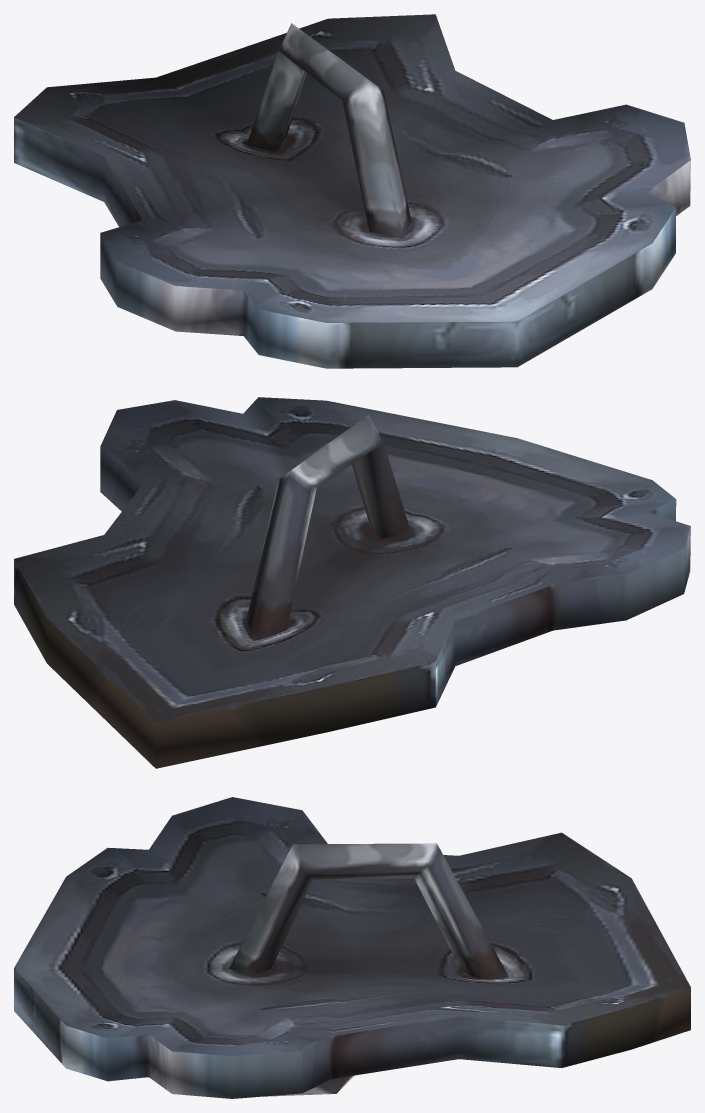
Rendered from weapon21004.FBX.
3 views of the same model, one above another, from view 1: azimuth 30°, elevation 25°; view 2: azimuth 150°, elevation 25°; view 3: azimuth 270°, elevation 25° (orthographic). The views are drawn at different scales.
Visible parts, largest first — view 1: Wep_Dun_4; view 2: Wep_Dun_4; view 3: Wep_Dun_4.
Boxes of the visible parts, x1,y1,x2,y2 form: Wep_Dun_4: [14, 14, 690, 368]; Wep_Dun_4: [14, 397, 690, 768]; Wep_Dun_4: [14, 797, 690, 1098].
Size of the model in its own units: 30.26 by 12.16 by 33.38.
1 material, 1 textured.
